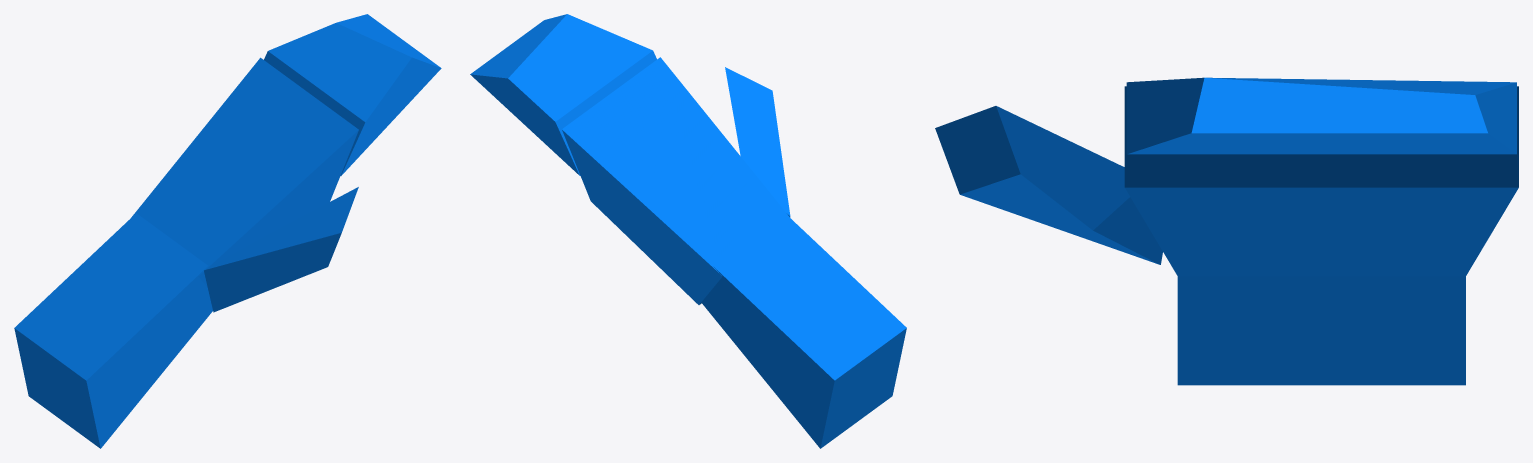
Rendered from Guante.FBX.
The picture shows the model from 3 angles, left to right: view 1: azimuth 30°, elevation 25°; view 2: azimuth 150°, elevation 25°; view 3: azimuth 270°, elevation 25°; orthographic projection. The views are drawn at different scales.
Parts seen in each view (by area): view 1: Box022; view 2: Box022; view 3: Box022.
Part boxes in pixels (x1,y1,x2,y2): Box022: [14, 14, 441, 448]; Box022: [470, 14, 906, 448]; Box022: [935, 77, 1518, 385].
Size of the model in its own units: 3.64 by 3 by 2.57.
